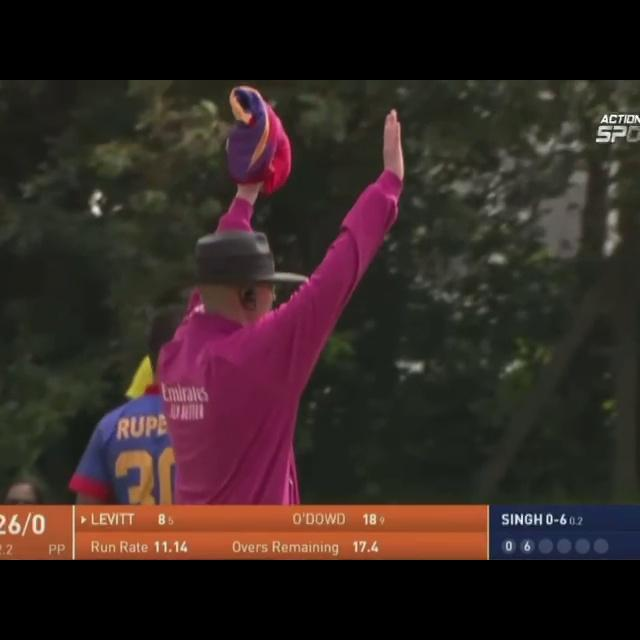umpire: (145, 82, 440, 507)
